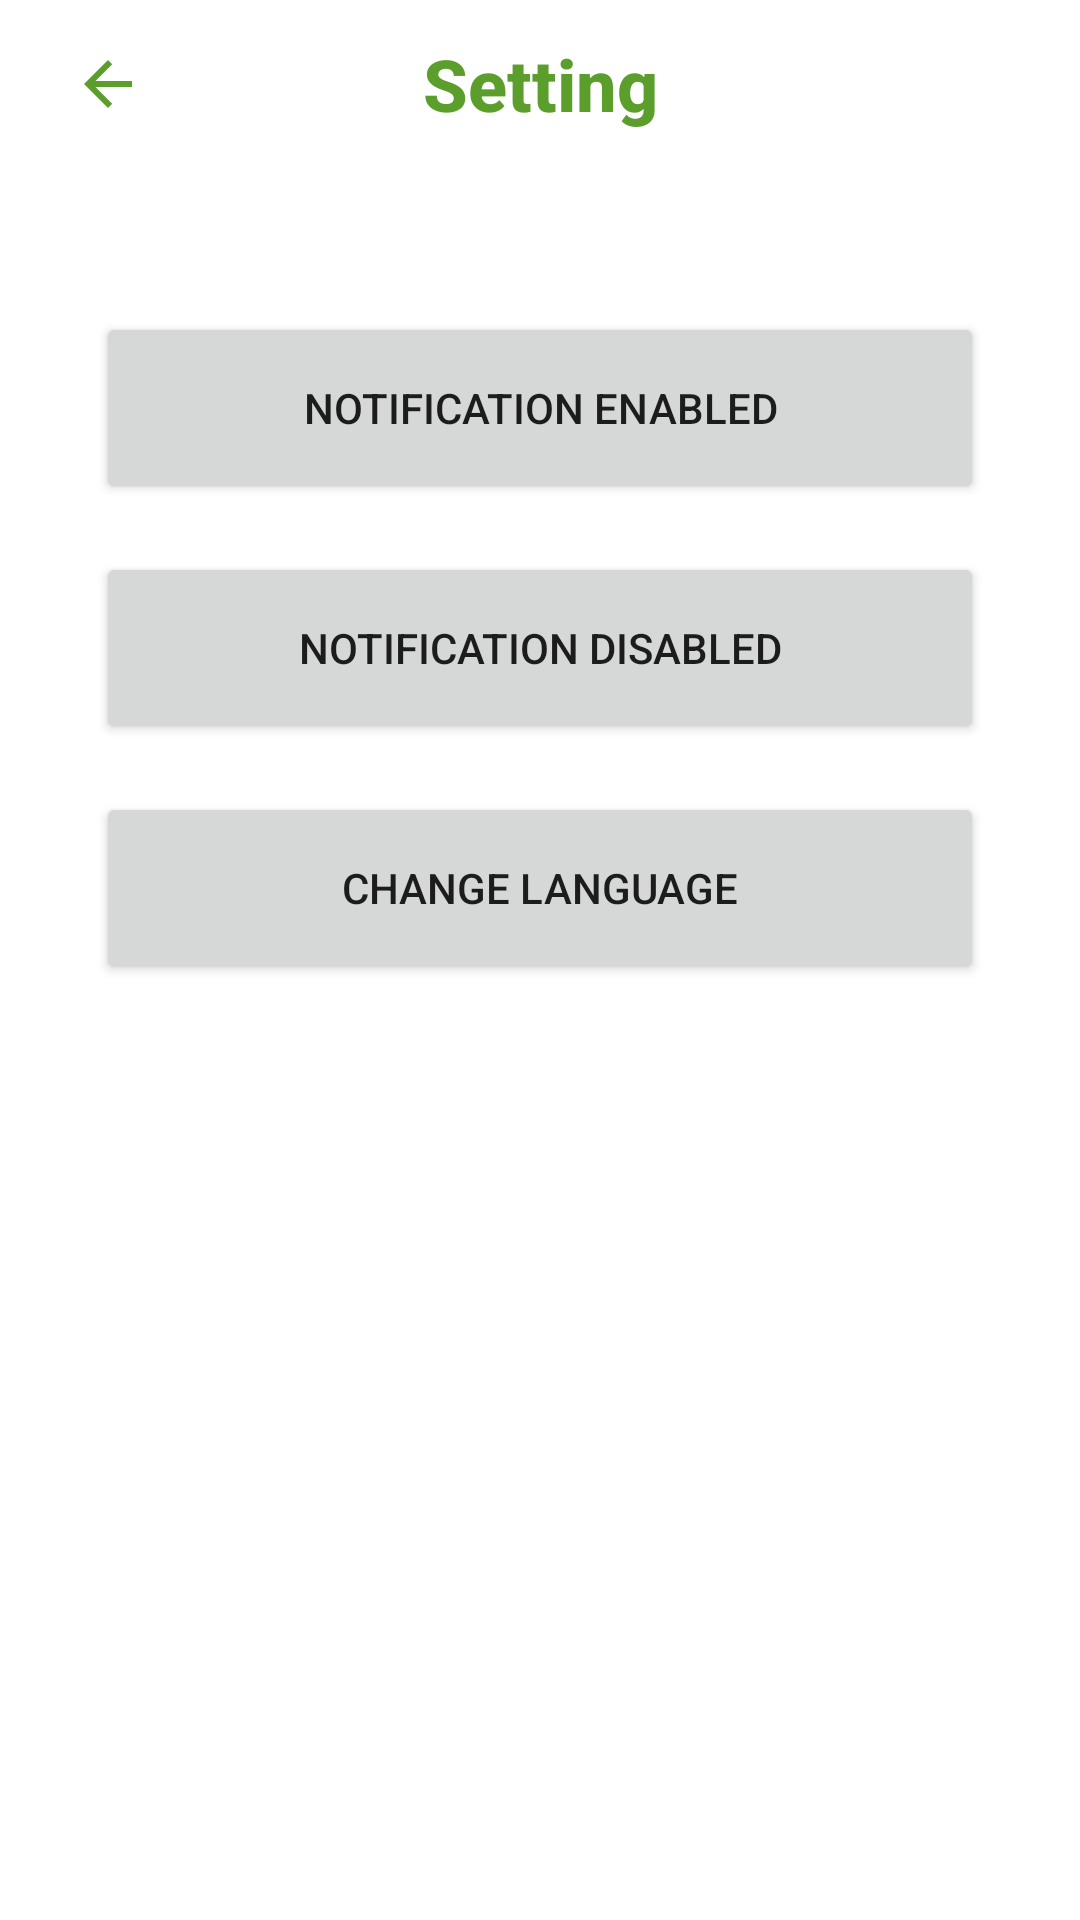

Named icons in this screenshot (1080w x 1920h) and their centers, [x,y]:
back: [108,84]
